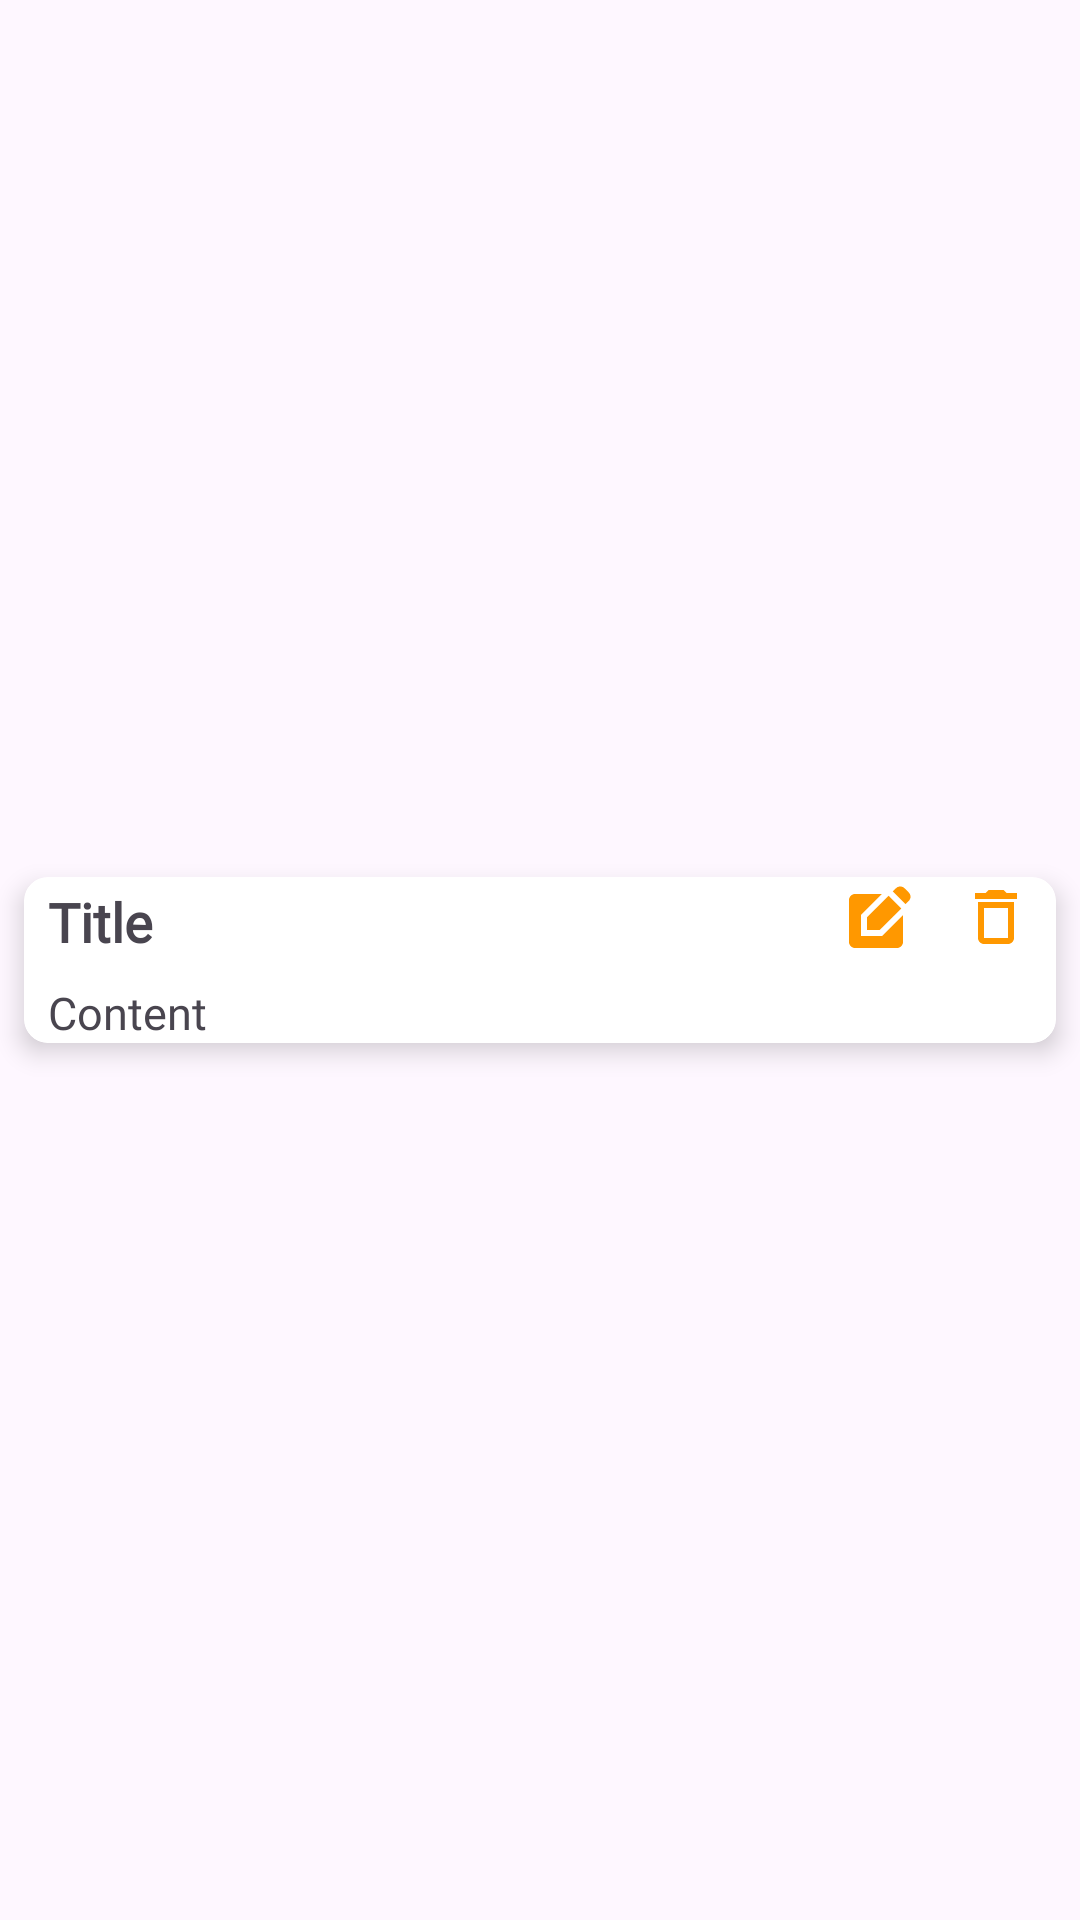

Screen size 1080px x 1920px. Icon name, then its box in pixels as bbox=[x1, y1, x2, y2]:
delete: bbox=[975, 890, 1017, 944]
edit square: bbox=[849, 886, 911, 948]
